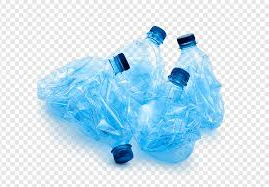plastic water bottle: (41, 95, 136, 165), (136, 65, 199, 165), (38, 52, 132, 111), (175, 34, 225, 134)
